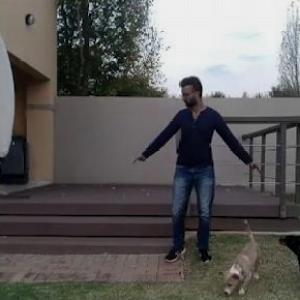land: (109, 91, 255, 257)
